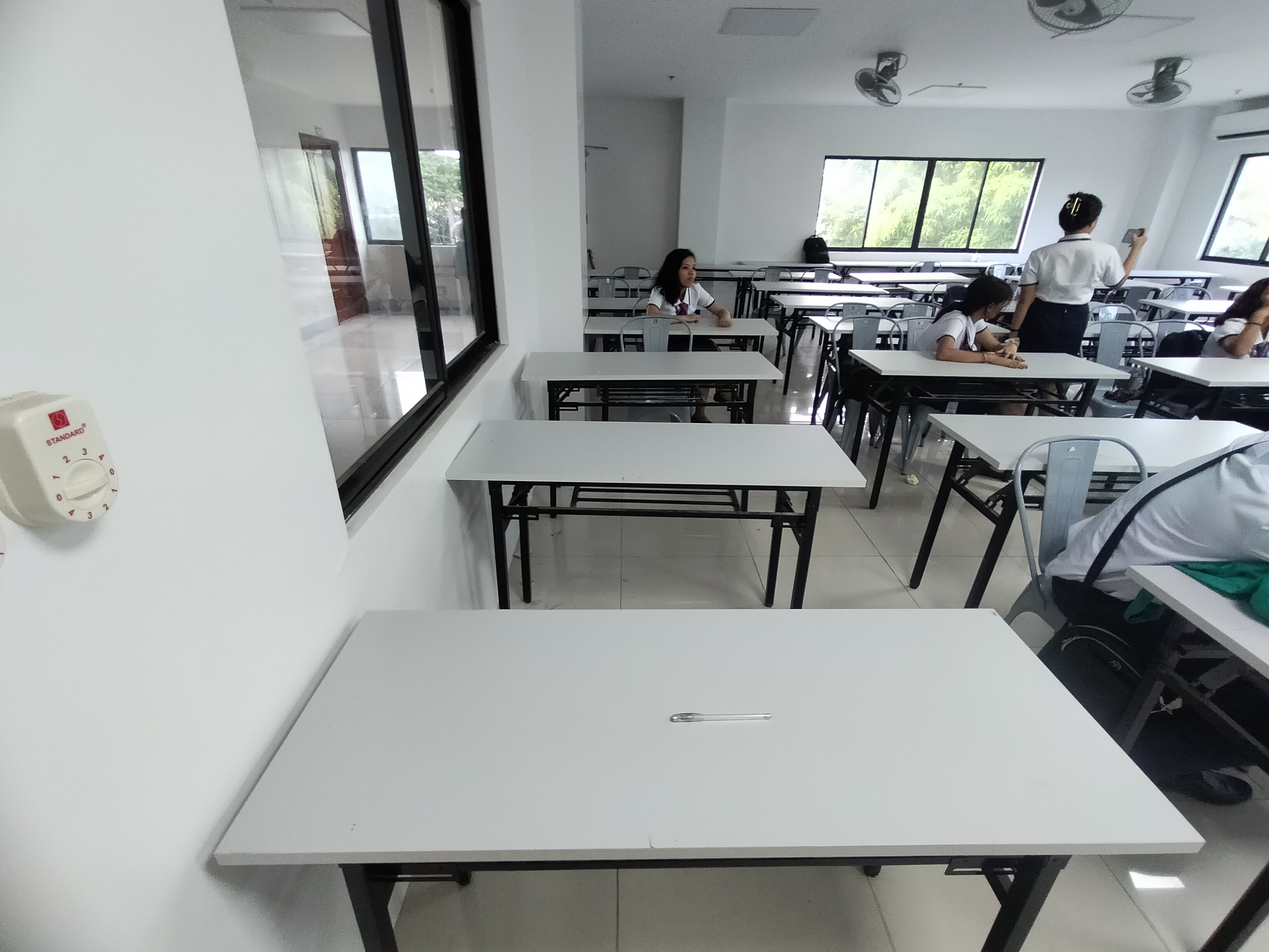with-student: (845, 270, 1129, 409), (584, 245, 778, 355), (1131, 279, 1269, 404)
